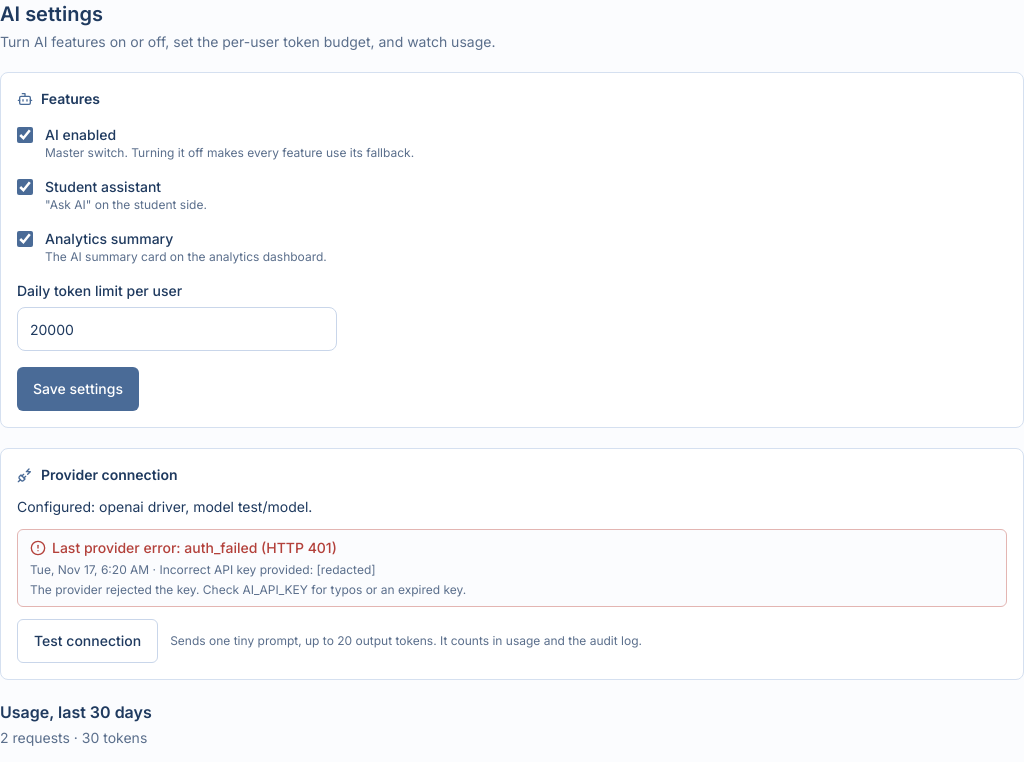
Test case: AI settings connection status › tests the connection and reports success with the latency
Click the button "Test connection" at (88, 641), box [17, 619, 158, 663]
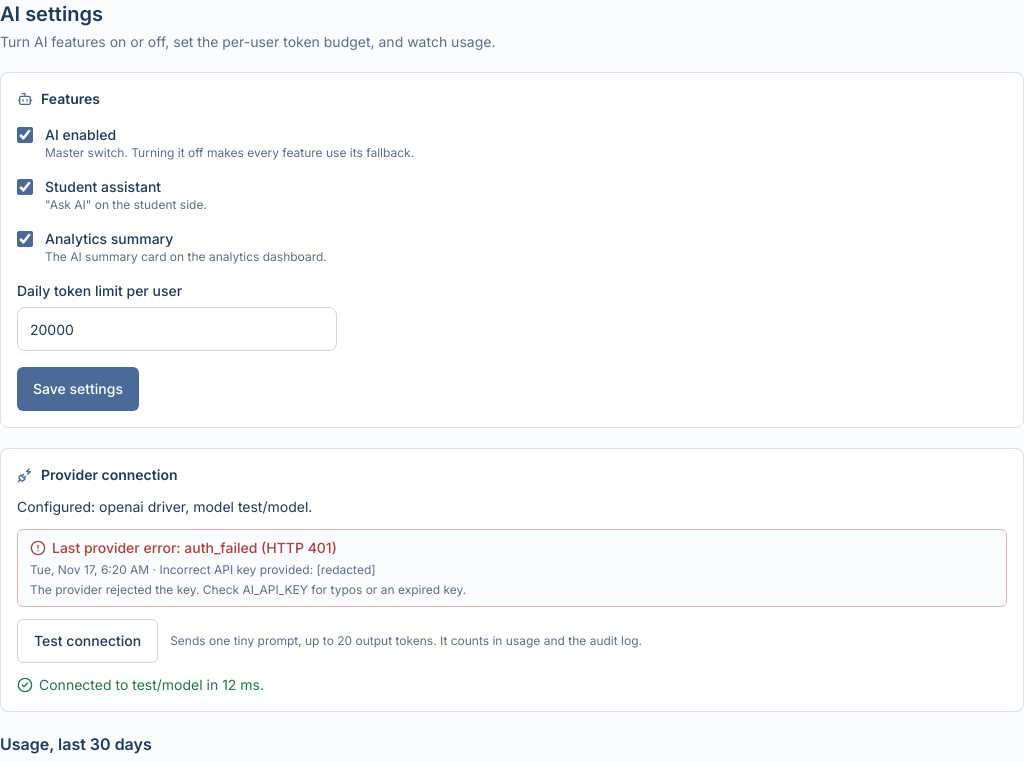
Check: the text "Connected to test/model in 12 ms." is shown, box [17, 676, 264, 693]
